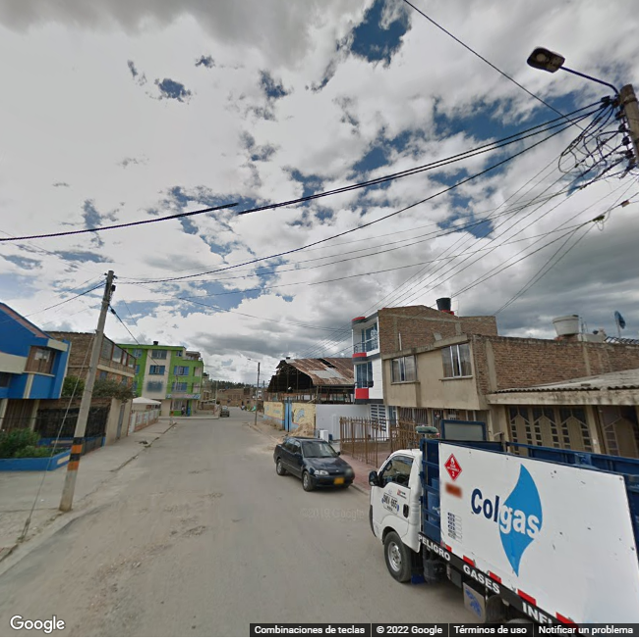D40: (71, 603, 148, 632), (106, 553, 146, 578)
